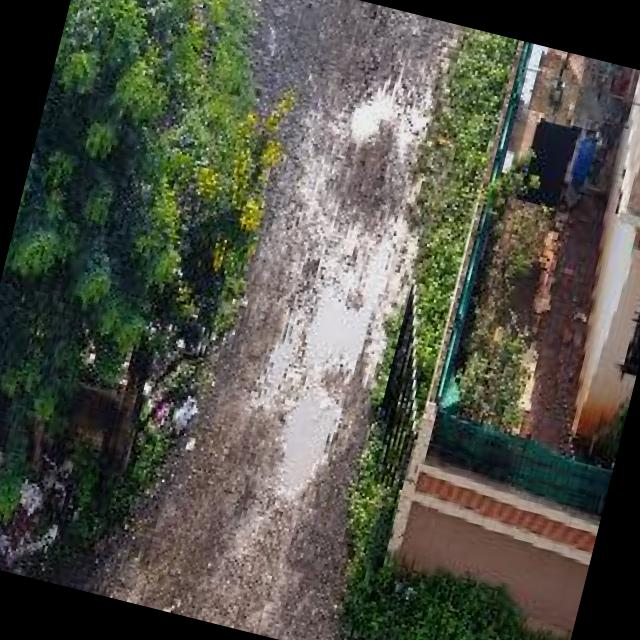stagnation: (197, 97, 468, 518)
